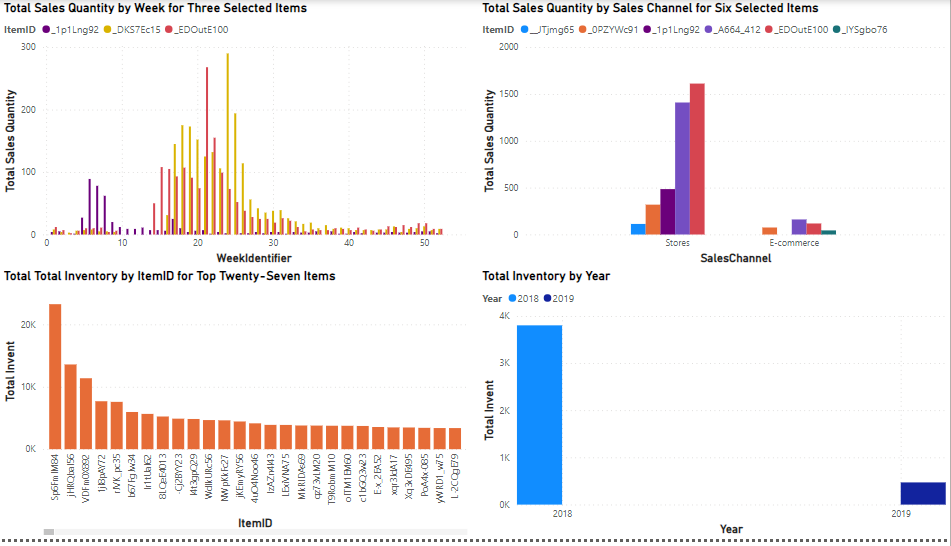

Layout of this report page (visuals, bound fields, positions):
{"tool":"powerbi","page":{"name":"Page 5","canvas":[1280,720],"ordinal":4},"visuals":[{"type":"clusteredColumnChart","title":"Total Sales Quantity by Week for Three Selected Items","fields":{"Category":["dimDates.WeekIdentifier"],"Y":["factSales.Total Sales Quantity"],"Series":["factSales.ItemID"]},"box":[10.3,0,629.6,358.8],"z":0},{"type":"clusteredColumnChart","title":"Total Inventory by Year","fields":{"Category":["dimDates.Year"],"Series":["dimDates.Year"],"Y":["factSales.Total Invent"]},"box":[650.3,358.8,629.6,360.5],"z":1000},{"type":"clusteredColumnChart","title":"Total Total Inventory by ItemID for Top Twenty-Seven Items","fields":{"Y":["factSales.Total Invent"],"Category":["factSales.ItemID"]},"box":[10.3,358.8,629.6,360.5],"z":2000},{"type":"clusteredColumnChart","title":"Total Sales Quantity by Sales Channel for Six Selected Items  ","fields":{"Y":["factSales.Total Sales Quantity"],"Series":["factSales.ItemID"],"Category":["dimChannels.SalesChannel"]},"box":[650.3,0,629.6,358.8],"z":3000}]}

Visuals, with their boxes in screenshot pixels (x1, y1, x2, y2), scaled from the page's 1280x720 canvas onto the 951x546 screenshot:
"Total Sales Quantity by Week for Three Selected Items" clusteredColumnChart: bbox=(8, 0, 475, 272)
"Total Inventory by Year" clusteredColumnChart: bbox=(483, 272, 950, 545)
"Total Total Inventory by ItemID for Top Twenty-Seven Items" clusteredColumnChart: bbox=(8, 272, 475, 545)
"Total Sales Quantity by Sales Channel for Six Selected Items  " clusteredColumnChart: bbox=(483, 0, 950, 272)
